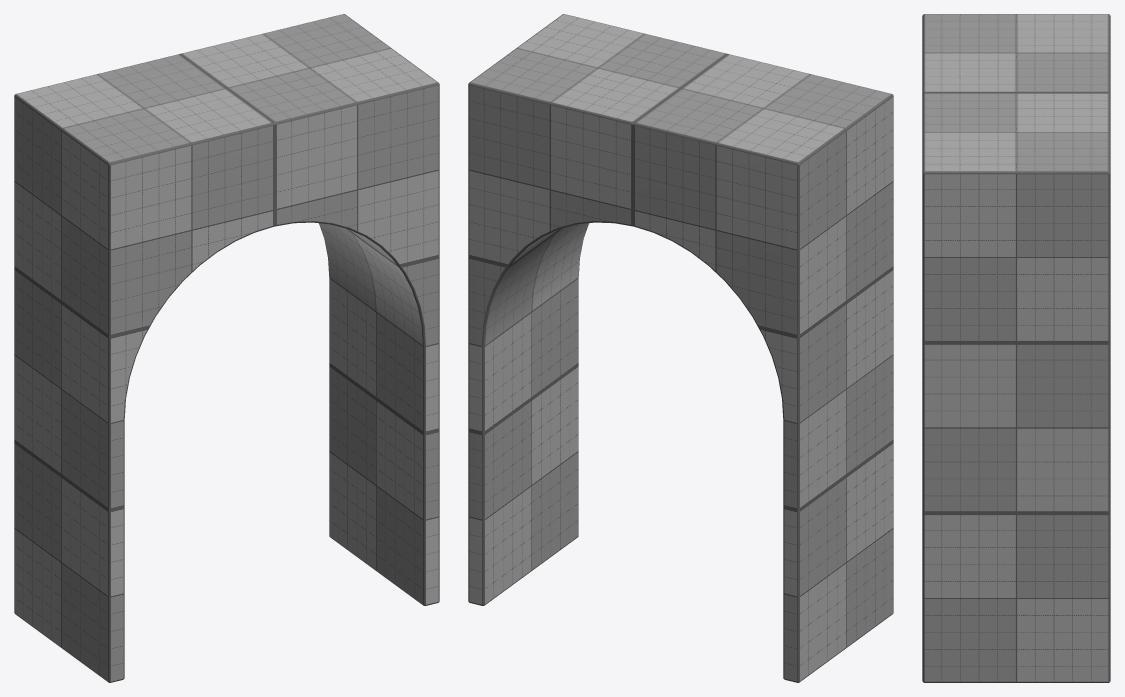
Rendered from Gate2x3x1.fbx.
3 renders of one model, left to right at view 1: azimuth 30°, elevation 25°; view 2: azimuth 150°, elevation 25°; view 3: azimuth 270°, elevation 25°, orthographic.
Visible parts, largest first — view 1: Gate2x3x1; view 2: Gate2x3x1; view 3: Gate2x3x1.
Part boxes in pixels (x1=…): Gate2x3x1: x1=14, y1=14, x2=439, y2=682; Gate2x3x1: x1=468, y1=14, x2=893, y2=682; Gate2x3x1: x1=922, y1=14, x2=1110, y2=682.
Size of the model in its own units: 200 by 300 by 100.
